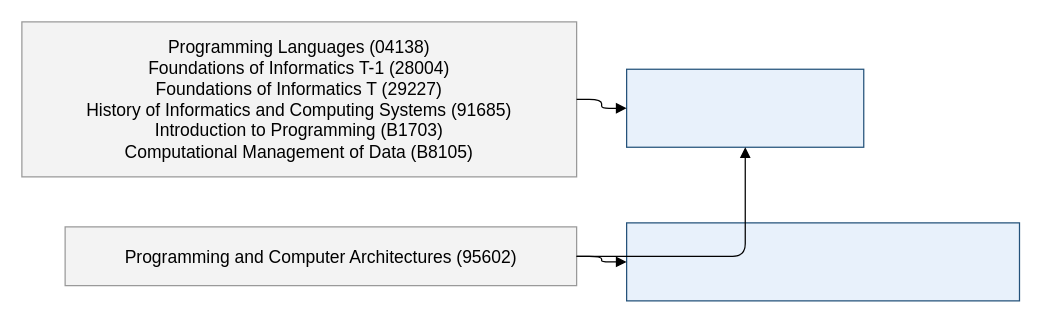
Some shapes in this 1043 by 324 pixel diagram are drawn without their labels. Here are the shapes that lost their labels. From the top down, the box of each, then its label:
(625, 68, 864, 147): Computing History 3 ECTS
(625, 222, 1020, 301): Computer Architecture and Industry 2 ECTS
